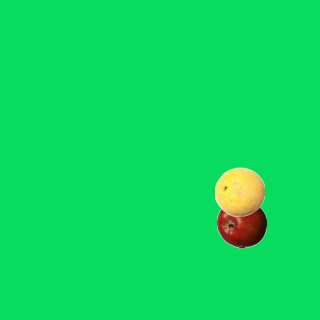Apple Braeburn: (216, 198, 266, 248)
Cantaloupe 1: (214, 166, 264, 216)
